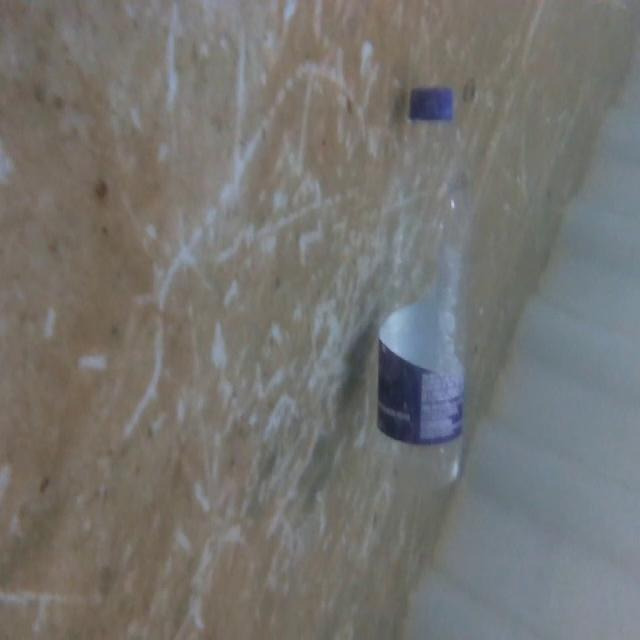plastic bottle: (374, 83, 477, 512)
